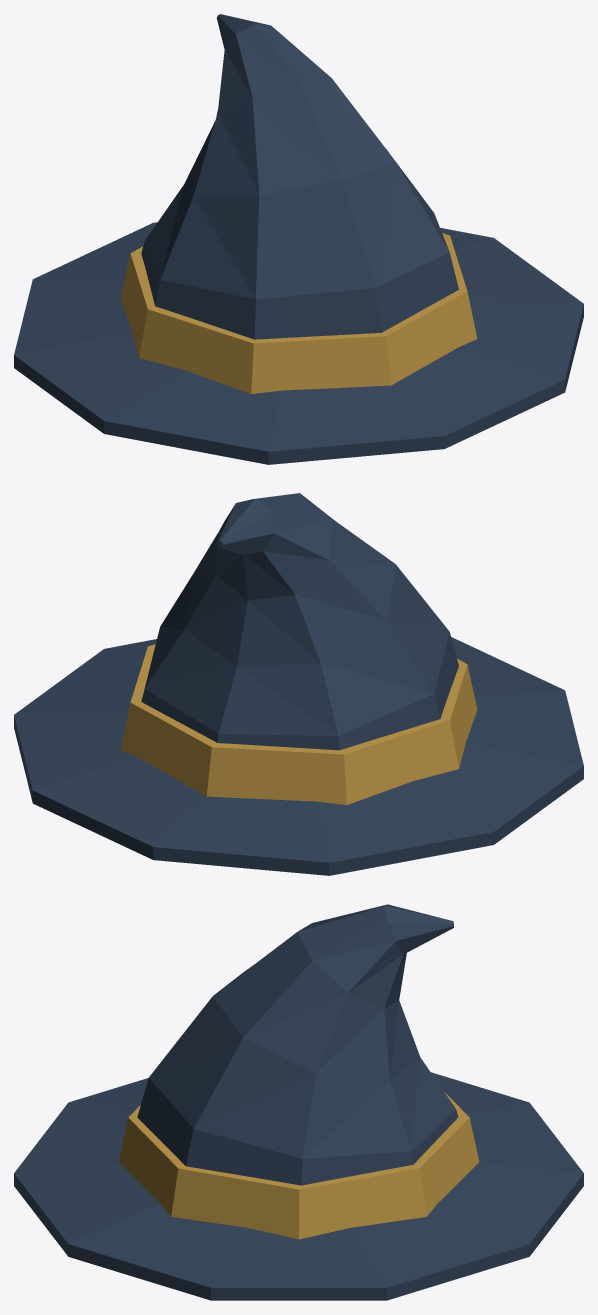
The model's file is Hat_Wizard.fbx.
3 views of the same model, one above another, from view 1: azimuth 30°, elevation 25°; view 2: azimuth 150°, elevation 25°; view 3: azimuth 270°, elevation 25° (orthographic). The views are drawn at different scales.
Parts seen in each view (by area): view 1: Hat, HatBand; view 2: Hat, HatBand; view 3: Hat, HatBand.
Part boxes in pixels (bbox=[...]): Hat: bbox=[14, 14, 583, 464]; HatBand: bbox=[120, 233, 477, 394]; Hat: bbox=[14, 493, 583, 875]; HatBand: bbox=[120, 644, 477, 805]; Hat: bbox=[14, 904, 583, 1300]; HatBand: bbox=[118, 1092, 479, 1239].
Bounding box in the file's own units: 3.08 × 1.76 × 3.24.
